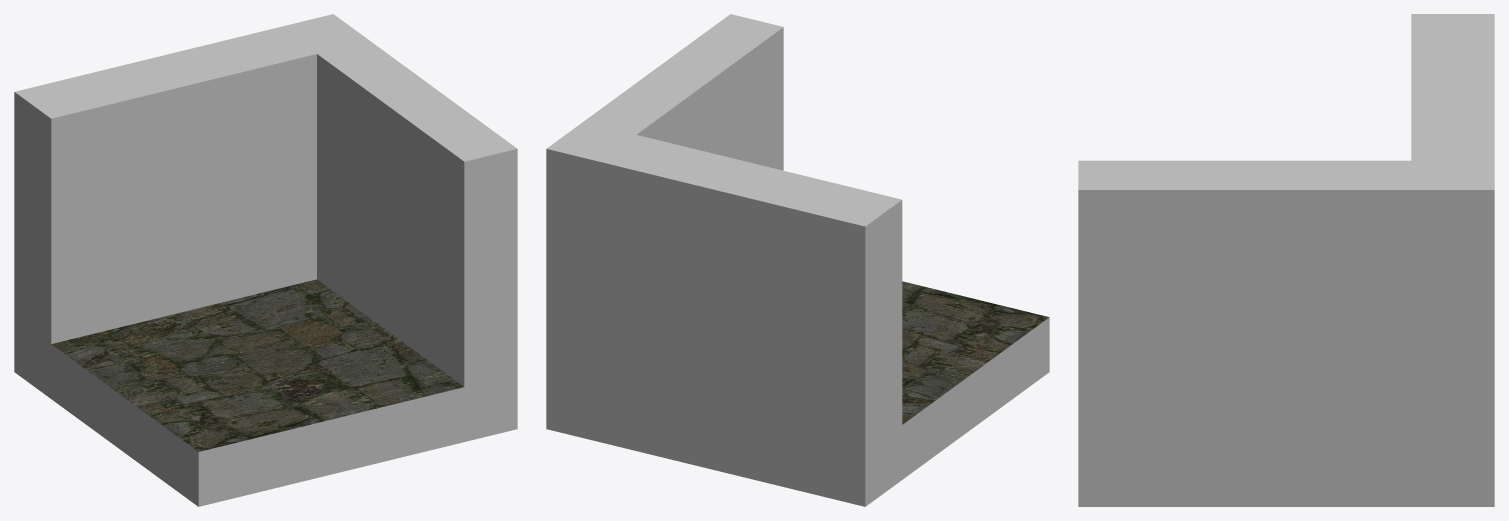
File: corner in and corner out.fbx
3 renders of one model, left to right at view 1: azimuth 30°, elevation 25°; view 2: azimuth 150°, elevation 25°; view 3: azimuth 270°, elevation 25°, orthographic. The views are drawn at different scales.
Visible parts, largest first — view 1: Cube; view 2: Cube; view 3: Cube.
Part boxes in pixels (x1=…): Cube: x1=14, y1=14, x2=517, y2=506; Cube: x1=546, y1=14, x2=1049, y2=506; Cube: x1=1078, y1=14, x2=1494, y2=506.
Bounding box in the file's own units: 595 × 499 × 595.
